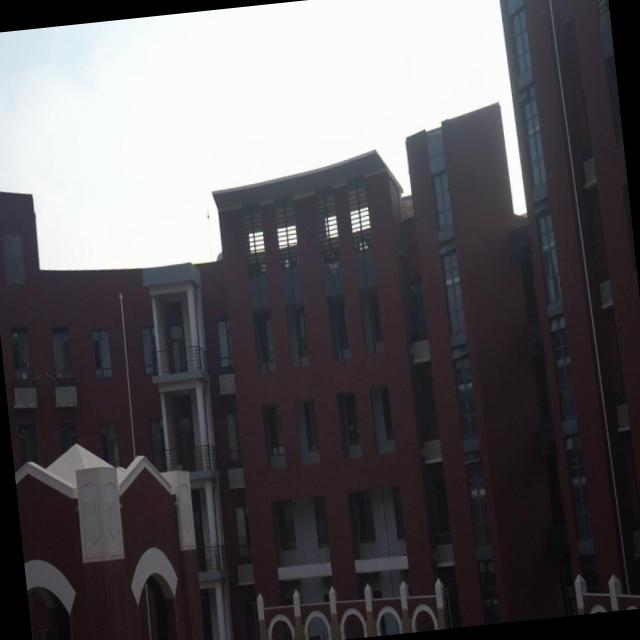drone: (326, 254, 342, 279)
